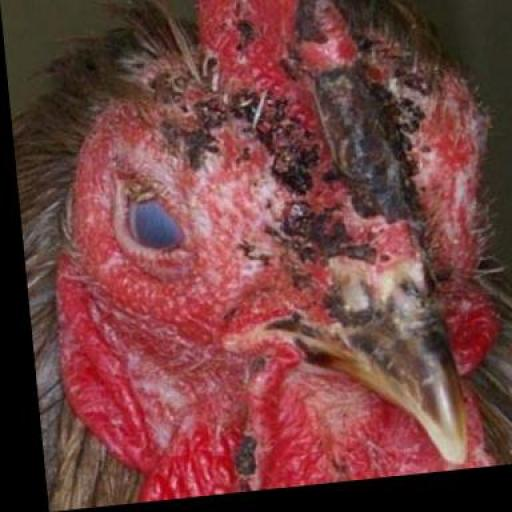disease: (153, 43, 477, 454)
